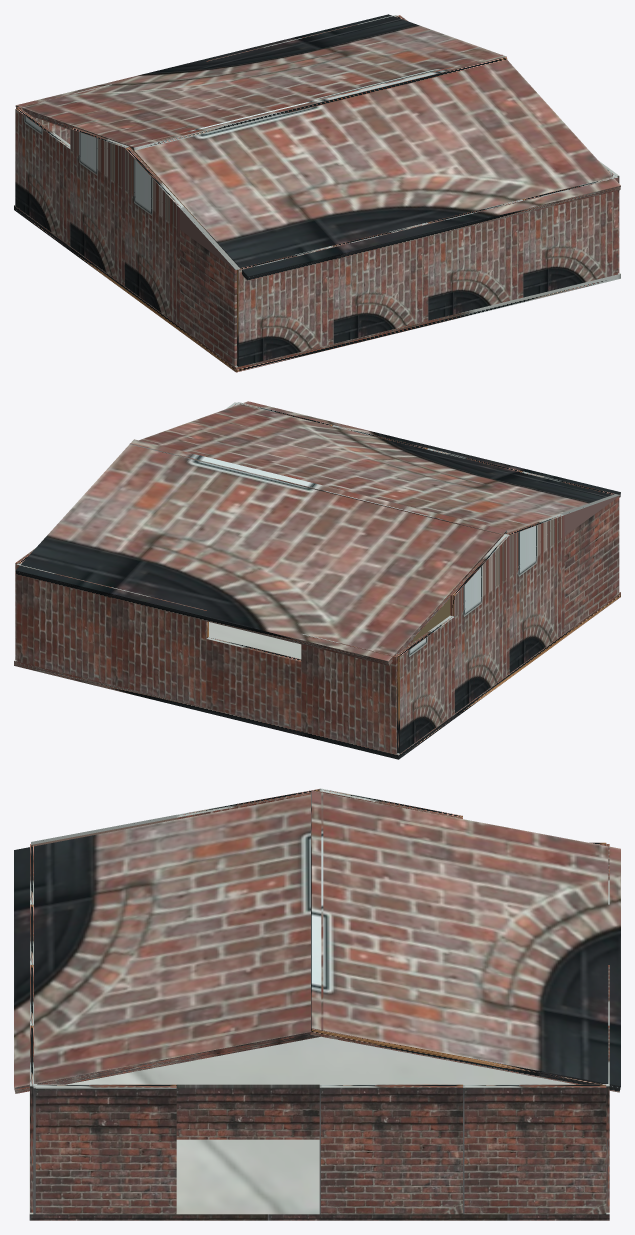
The model's file is building1.glb.
3 renders of one model, top to bottom at view 1: azimuth 30°, elevation 25°; view 2: azimuth 150°, elevation 25°; view 3: azimuth 270°, elevation 25°, orthographic. The views are drawn at different scales.
Visible parts, largest first — view 1: Cube.018, Cube.019, Cube.007, Cube.008, Cube.004, Cube.005, Cube.006, Cube.011, Cube.010, Cube.009, Cube.020; view 2: Cube.019, Cube.018, Cube.015, Cube.013, Cube.012, Cube.008, Cube.011, Cube.014, Cube.010, Cube.009, Cube.020; view 3: Cube.019, Cube.018, Cube.020, Cube.001, Cube.002, Cube.003, Cube.021, Cube.008, Cube.004, Cube.012, Cube.011.
Boxes of the visible parts, x1=… form: Cube.018: x1=129, y1=54, x2=620, y2=280; Cube.019: x1=15, y1=14, x2=507, y2=150; Cube.007: x1=237, y1=246, x2=333, y2=366; Cube.008: x1=125, y1=147, x2=240, y2=326; Cube.004: x1=522, y1=176, x2=618, y2=297; Cube.005: x1=427, y1=199, x2=523, y2=320; Cube.006: x1=332, y1=222, x2=428, y2=343; Cube.011: x1=70, y1=127, x2=129, y2=285; Cube.010: x1=15, y1=108, x2=70, y2=245; Cube.009: x1=180, y1=230, x2=236, y2=366; Cube.020: x1=14, y1=205, x2=620, y2=372; Cube.019: x1=15, y1=439, x2=507, y2=665; Cube.018: x1=130, y1=401, x2=620, y2=536; Cube.015: x1=301, y1=634, x2=397, y2=753; Cube.013: x1=111, y1=587, x2=208, y2=707; Cube.012: x1=16, y1=563, x2=111, y2=684; Cube.008: x1=506, y1=494, x2=620, y2=672; Cube.011: x1=450, y1=534, x2=509, y2=713; Cube.014: x1=206, y1=637, x2=301, y2=730; Cube.010: x1=396, y1=615, x2=454, y2=753; Cube.009: x1=564, y1=496, x2=619, y2=632; Cube.020: x1=14, y1=592, x2=620, y2=759; Cube.019: x1=310, y1=791, x2=620, y2=1092; Cube.018: x1=14, y1=792, x2=323, y2=1093; Cube.020: x1=29, y1=1036, x2=609, y2=1220; Cube.001: x1=33, y1=1084, x2=176, y2=1214; Cube.002: x1=463, y1=1084, x2=606, y2=1214; Cube.003: x1=319, y1=1084, x2=462, y2=1214; Cube.021: x1=176, y1=1084, x2=319, y2=1139; Cube.008: x1=31, y1=789, x2=319, y2=845; Cube.004: x1=30, y1=1025, x2=36, y2=1212; Cube.012: x1=602, y1=1025, x2=609, y2=1212; Cube.011: x1=319, y1=788, x2=462, y2=818.
Bounding box in the file's own units: 8.1 × 2.91 × 8.48.
Materials: 2 (1 with a texture image).
